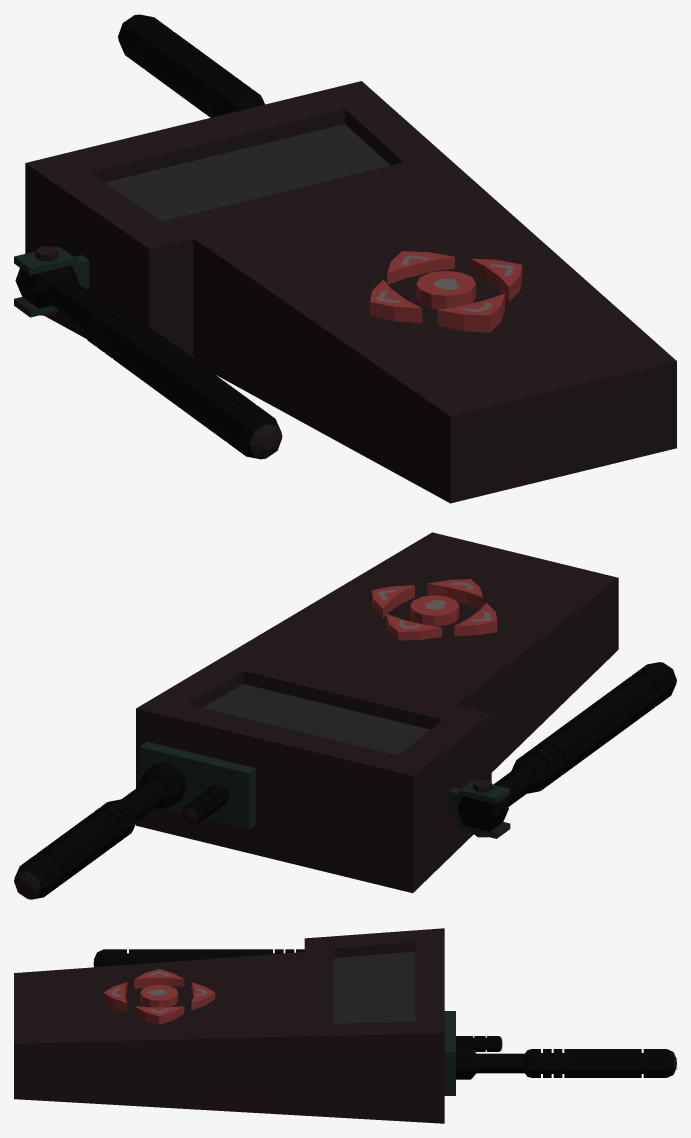
The model's file is Multytool Devise.fbx.
3 views of the same model, one above another, from view 1: azimuth 30°, elevation 25°; view 2: azimuth 150°, elevation 25°; view 3: azimuth 270°, elevation 25° (orthographic). The views are drawn at different scales.
Parts seen in each view (by area): view 1: Cylinder, Cylinder.001, Cube.006, Cube.008, Cube.004, Cube.007, Cube.005; view 2: Cylinder, Cylinder.001, Cube.006, Cube.008, Cube.004, Cube.005, Cube.007; view 3: Cylinder, Cylinder.001, Cube.006, Cube.005, Cube.007, Cube.008, Cube.004.
Boxes of the visible parts, box(x1,y1,x2,y2) form: Cylinder: box(14, 14, 676, 503); Cylinder.001: box(15, 265, 282, 459); Cube.006: box(416, 270, 475, 309); Cube.008: box(437, 293, 504, 332); Cube.004: box(387, 251, 454, 284); Cube.007: box(370, 280, 422, 323); Cube.005: box(470, 258, 522, 301); Cylinder: box(14, 532, 618, 899); Cylinder.001: box(457, 662, 676, 831); Cube.006: box(410, 595, 459, 626); Cube.008: box(427, 579, 483, 609); Cube.004: box(386, 614, 441, 640); Cube.005: box(372, 585, 414, 617); Cube.007: box(454, 603, 497, 635); Cylinder: box(14, 928, 676, 1123); Cylinder.001: box(93, 949, 304, 967); Cube.006: box(140, 984, 178, 1007); Cube.005: box(134, 1006, 184, 1024); Cube.007: box(134, 969, 184, 988); Cube.008: box(103, 982, 127, 1012); Cube.004: box(191, 982, 215, 1010).
Bounding box in the file's own units: 134 × 46.52 × 308.
Materials: 2 (1 with a texture image).
